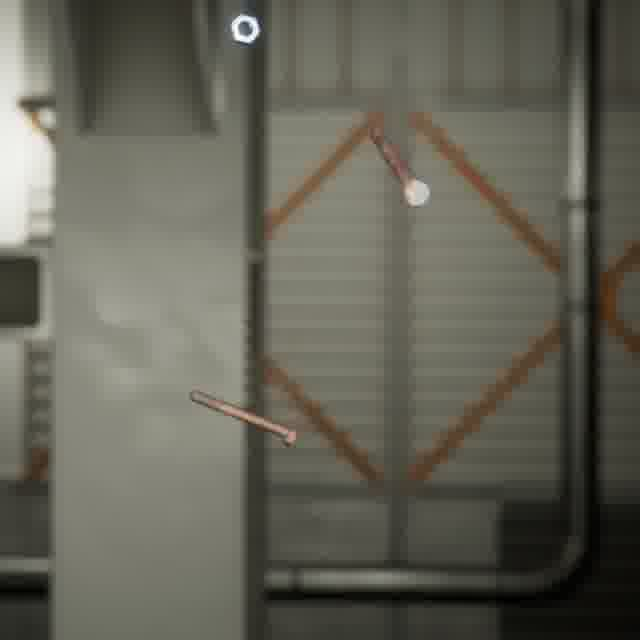bolt: (185, 384, 304, 450), (366, 124, 434, 211)
nut: (224, 10, 265, 51)
